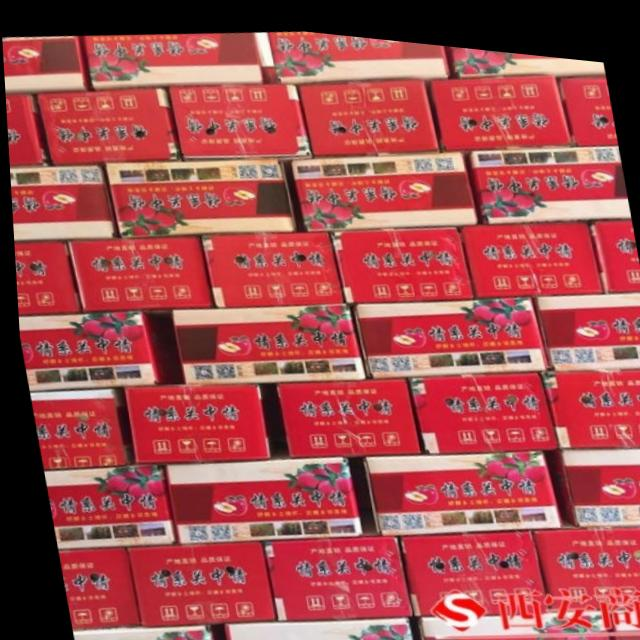box: (157, 450, 359, 541), (359, 439, 557, 527), (350, 286, 549, 371), (168, 296, 364, 380), (101, 151, 294, 235), (288, 143, 477, 223), (117, 535, 269, 625), (461, 132, 629, 213), (254, 527, 406, 616), (391, 520, 543, 609), (401, 361, 555, 445), (270, 369, 416, 451), (63, 231, 209, 312), (120, 379, 265, 460), (457, 208, 601, 289), (39, 460, 169, 549), (32, 84, 178, 162), (326, 217, 472, 295), (298, 69, 440, 149), (15, 308, 153, 390), (425, 63, 570, 141), (166, 77, 311, 154), (199, 224, 343, 301), (82, 26, 263, 86), (528, 513, 640, 600), (265, 25, 450, 76), (531, 276, 640, 359), (8, 162, 114, 242), (537, 356, 640, 436), (410, 598, 605, 640), (26, 386, 123, 470), (555, 433, 640, 515), (52, 546, 133, 630), (218, 609, 408, 640), (2, 34, 89, 93), (11, 240, 77, 316), (448, 37, 605, 66), (557, 59, 617, 133), (586, 205, 640, 281), (4, 93, 47, 166), (66, 621, 203, 640), (595, 595, 640, 640)
